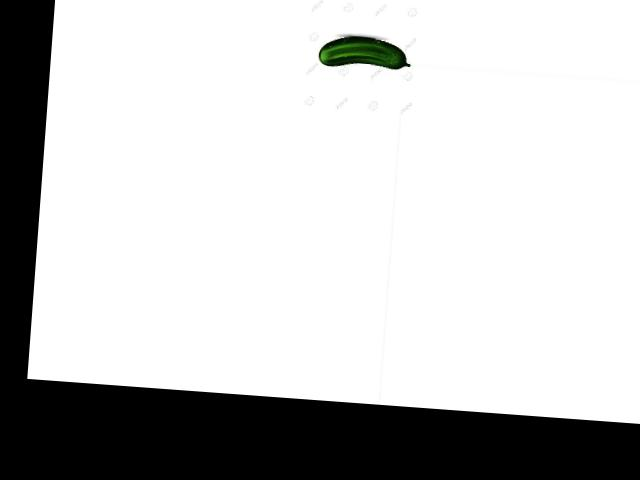cucumber: (317, 33, 411, 71)
